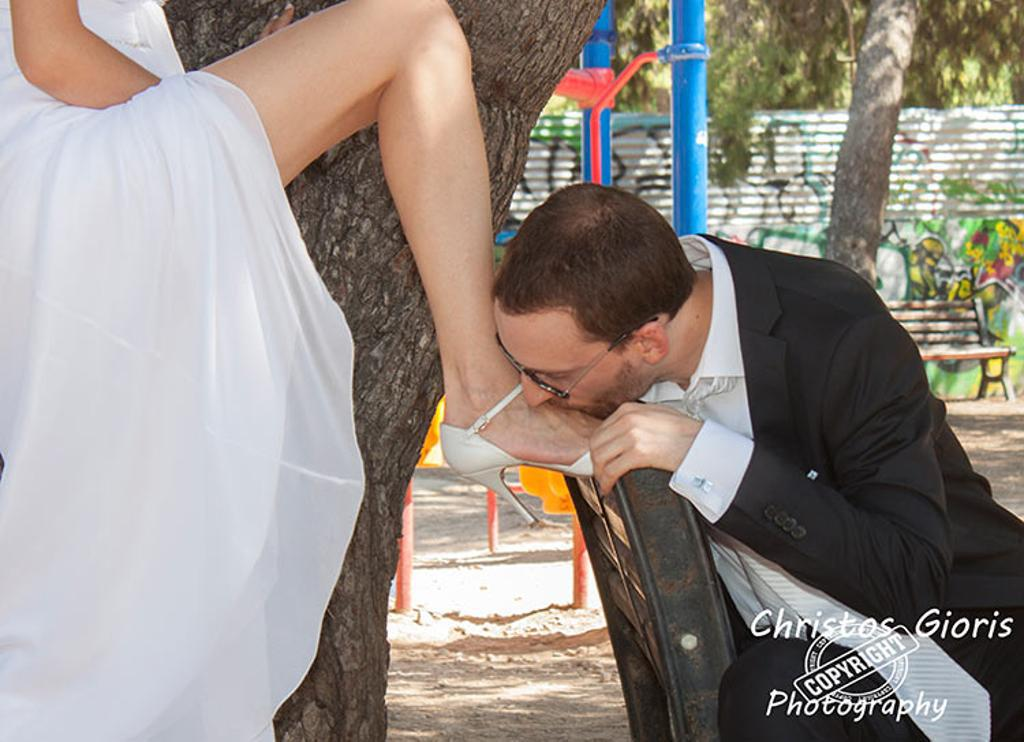face: (505, 311, 627, 425)
